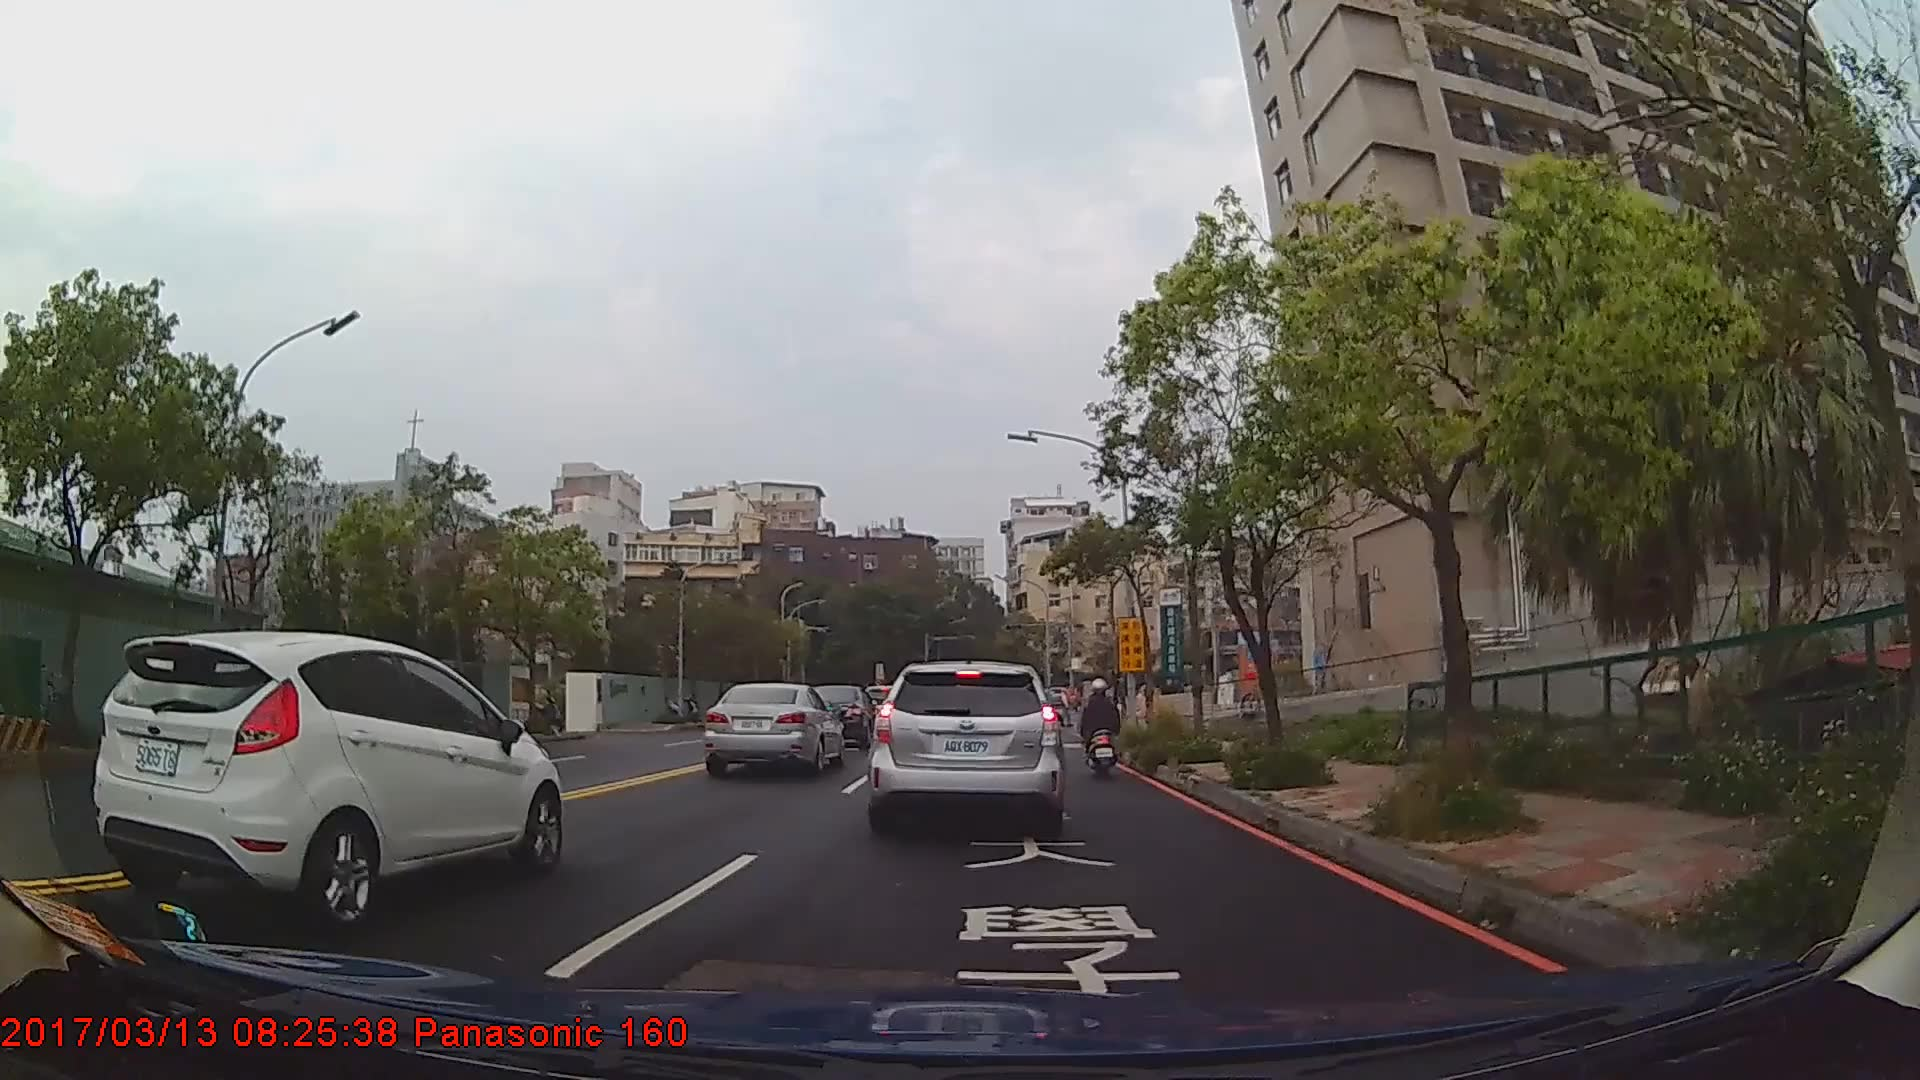rider: (1079, 678, 1123, 782)
vehicle: (90, 628, 562, 931), (865, 659, 1062, 832), (701, 678, 842, 775), (799, 683, 875, 746)
